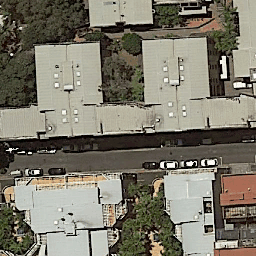car: (232, 80, 253, 89), (24, 167, 43, 176), (160, 160, 179, 169), (200, 158, 219, 167), (79, 142, 99, 150), (16, 146, 33, 155), (37, 145, 56, 153), (48, 167, 66, 175), (180, 160, 198, 168), (142, 161, 159, 169), (241, 134, 256, 143), (163, 138, 182, 145), (8, 168, 22, 177), (62, 143, 77, 151)
